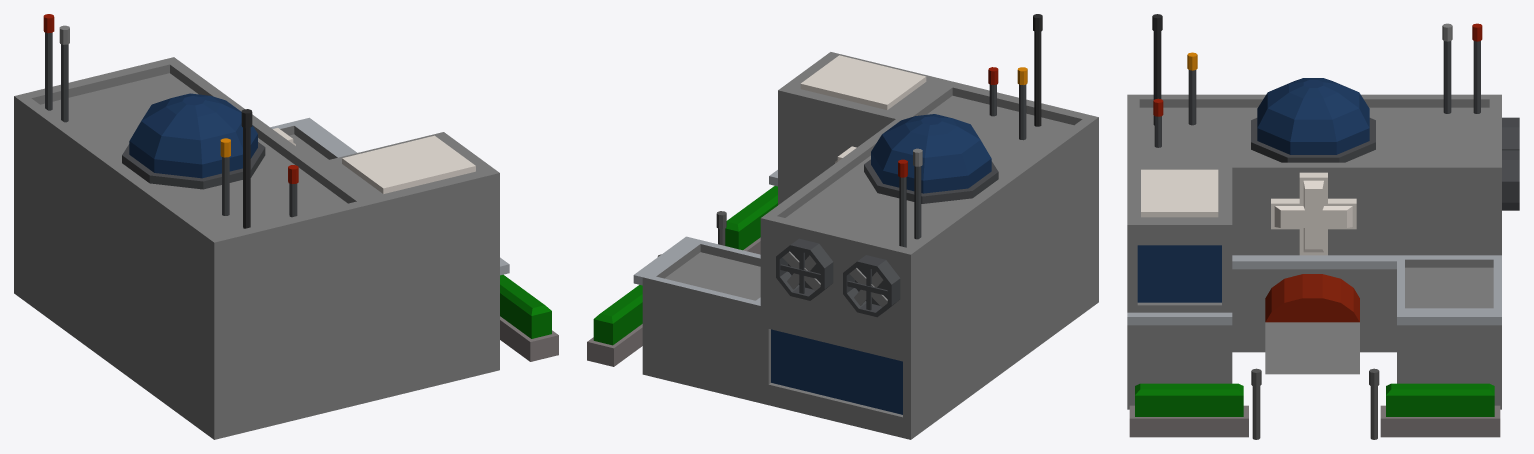
File: Hospital.fbx
3 views of the same model, side by side, from view 1: azimuth 30°, elevation 25°; view 2: azimuth 150°, elevation 25°; view 3: azimuth 270°, elevation 25° (orthographic). The views are drawn at different scales.
Parts seen in each view (by area): view 1: Cube.001; view 2: Cube.001, glow.009, fan2, fan; view 3: Cube.001, glow.009.
Boxes of the visible parts, box(x1,y1,x2,y2) form: Cube.001: box(14, 14, 558, 439); Cube.001: box(587, 31, 1098, 439); glow.009: box(657, 14, 1042, 305); fan2: box(849, 268, 887, 307); fan: box(782, 251, 820, 290); Cube.001: box(1127, 23, 1519, 439); glow.009: box(1152, 14, 1379, 386).
Size of the model in its own units: 387 by 334 by 406.
